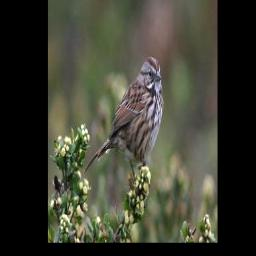Sparrow: (83, 55, 166, 192)
